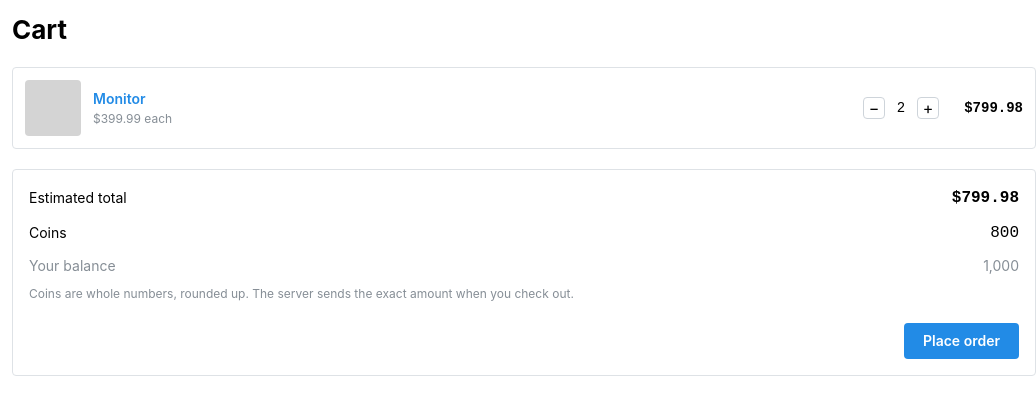
Test case: CartPage › sends every line to the server and keeps the server's numbers
The width and height of the screenshot is (1036, 393).
Click the button "Place order" at (962, 341), box [904,323,1019,359]
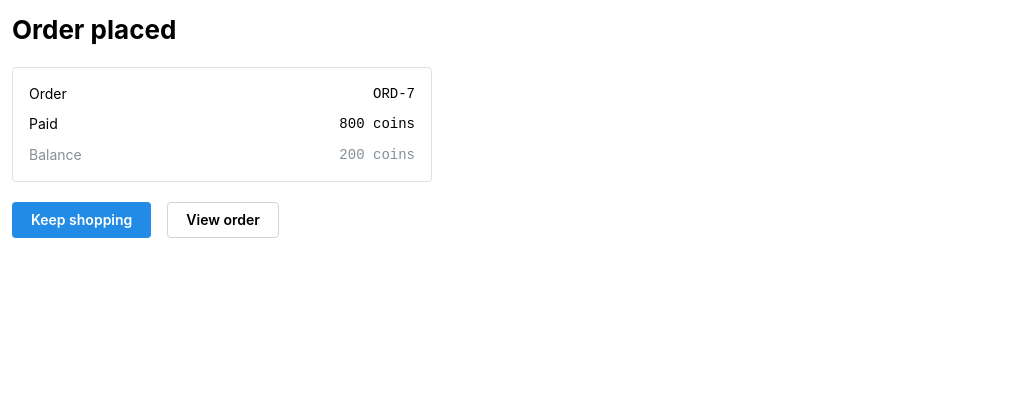
expect the heading "Order placed" is shown: met, box [12,14,176,45]
expect the text "ORD-7" is shown: met, box [373,84,415,104]
expect the text "800 coins" is shown: met, box [339,114,415,135]
